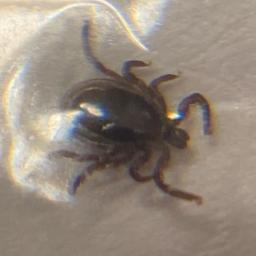Ixodes scapularis: (48, 22, 213, 206)
